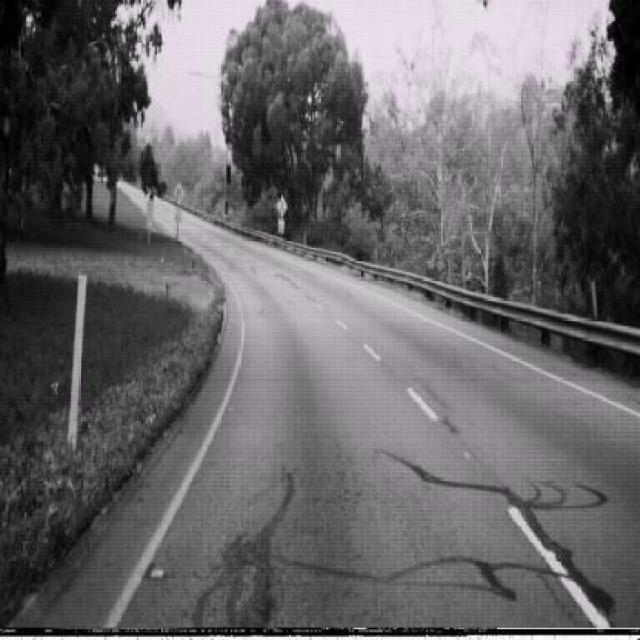laneEnds: (172, 178, 185, 206), (275, 194, 288, 217)
